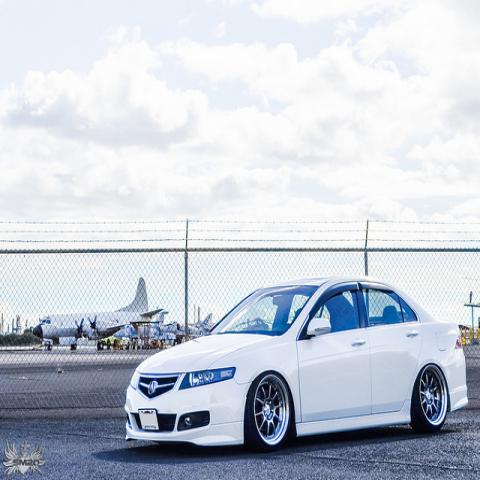car: (123, 280, 471, 437), (100, 329, 133, 345)
